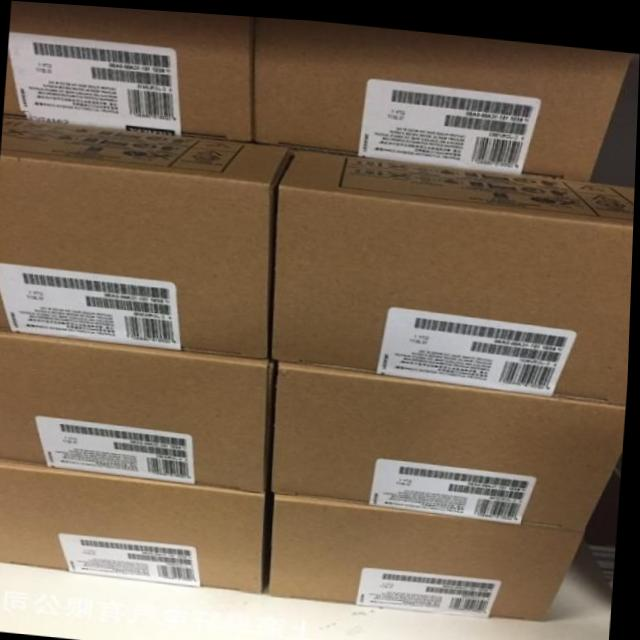box: (271, 146, 636, 392), (0, 115, 295, 354), (252, 13, 635, 174), (270, 356, 627, 521), (0, 329, 274, 489), (269, 487, 588, 613), (0, 457, 266, 589), (5, 1, 252, 137)
